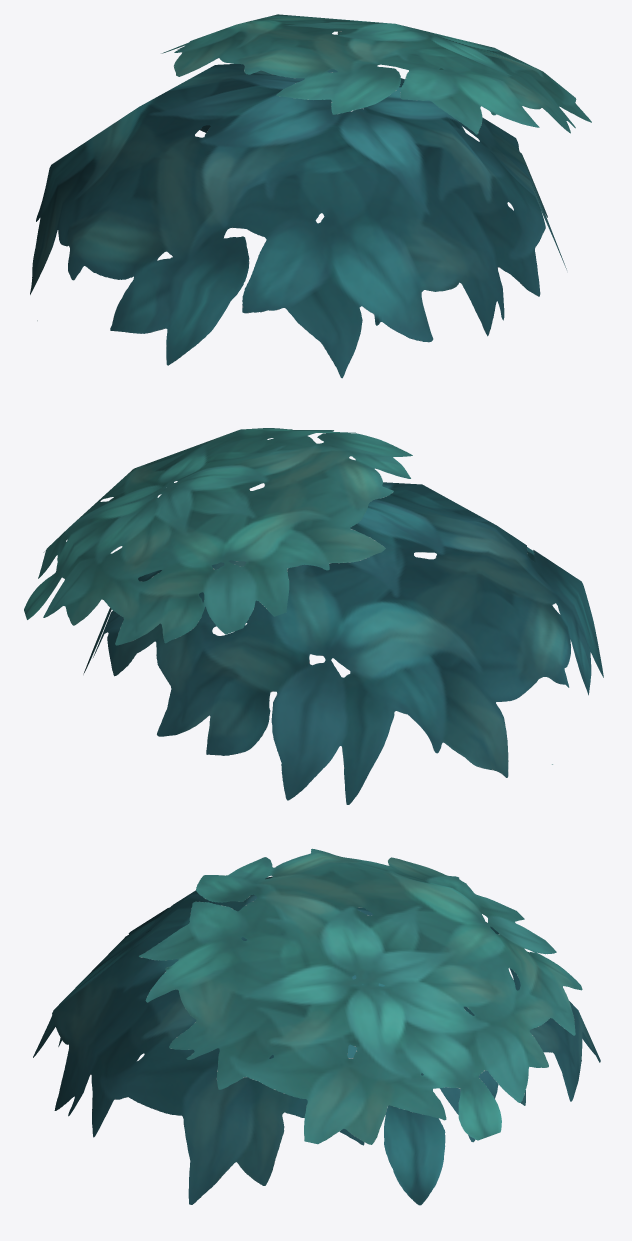
The model's file is Snake_grass_05.fbx.
3 renders of one model, top to bottom at view 1: azimuth 30°, elevation 25°; view 2: azimuth 150°, elevation 25°; view 3: azimuth 270°, elevation 25°, orthographic. The views are drawn at different scales.
Visible parts, largest first — view 1: Snake_grass_05; view 2: Snake_grass_05; view 3: Snake_grass_05.
Part boxes in pixels (x1,y1,x2,y2): Snake_grass_05: (30, 14, 591, 378); Snake_grass_05: (24, 428, 603, 804); Snake_grass_05: (33, 848, 600, 1205).
Bounding box in the file's own units: 71.08 × 28.26 × 66.12.
1 material, 1 textured.
